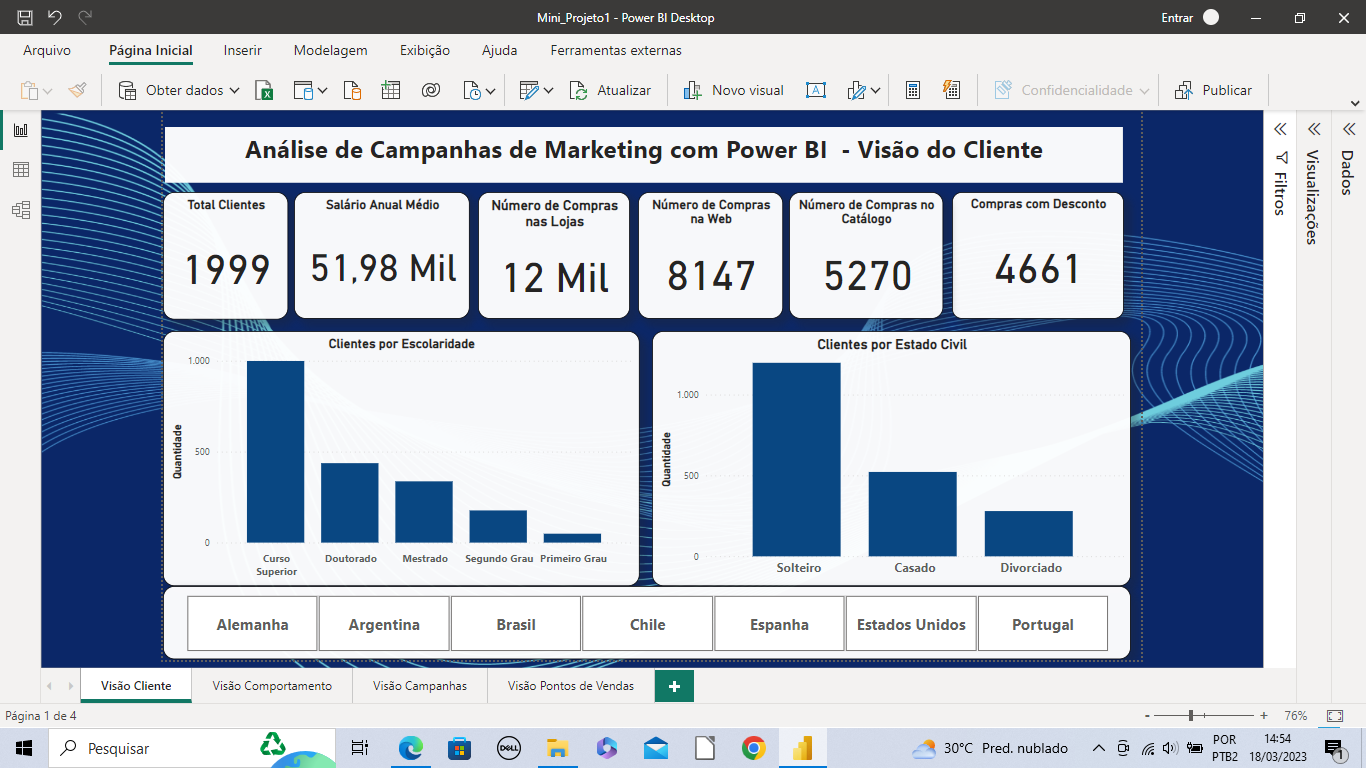

Layout of this report page (visuals, bound fields, positions):
{"tool":"powerbi","page":{"name":"Visão Cliente","canvas":[1280,720],"ordinal":0},"visuals":[{"type":"card","title":"Total Clientes","fields":{"Values":["CountNonNull(DadosMarketing.ID)"]},"box":[0,107.4,163.8,166.5],"z":0},{"type":"card","title":"Salário Anual Médio","fields":{"Values":["Avg(DadosMarketing.Salario Anual)"]},"box":[171.5,107.3,230.4,166.3],"z":1000},{"type":"card","title":"Número de Compras nas Lojas","fields":{"Values":["Sum(DadosMarketing.Numero de Compras na Loja)"]},"box":[412.4,107.3,199,166.3],"z":2000},{"type":"card","title":"Número de Compras na Web","fields":{"Values":["Sum(DadosMarketing.Numero de Compras na Web)"]},"box":[621.8,107.3,189.8,166.3],"z":3000},{"type":"card","title":"Compras com Desconto","fields":{"Values":["Sum(DadosMarketing.Numero de Compras com Desconto)"]},"box":[1032.9,107.3,225.2,166.3],"z":4000},{"type":"card","title":"Número de Compras no Catálogo","fields":{"Values":["Sum(DadosMarketing.Numero de Compras via Catalogo)"]},"box":[819.5,107.3,201.6,166.3],"z":5000},{"type":"textbox","box":[2.9,21.6,1254.2,73.4],"z":6000},{"type":"clusteredColumnChart","title":"Clientes por Escolaridade","fields":{"Y":["CountNonNull(DadosMarketing.ID)"],"Category":["DadosMarketing.Escolaridade"]},"box":[0,289.1,623.5,334.1],"z":7000},{"type":"clusteredColumnChart","title":"Clientes por Estado Civil","fields":{"Y":["CountNonNull(DadosMarketing.ID)"],"Category":["DadosMarketing.Estado Civil"]},"box":[640.1,289.3,627.1,333.8],"z":8000},{"type":"slicer","fields":{"Values":["DadosMarketing.Pais"]},"box":[0,623.5,1267.2,96.5],"z":9000}]}

Visuals, with their boxes on the page's 1280x720 design canvas (x1, y1, x2, y2). These are canvas units, not pixel positions in the 1366x768 screenshot, which may show the page scaled, cropped or inside an application window:
"Total Clientes" card: detection(0, 107, 164, 274)
"Salário Anual Médio" card: detection(172, 107, 402, 274)
"Número de Compras nas Lojas" card: detection(412, 107, 611, 274)
"Número de Compras na Web" card: detection(622, 107, 812, 274)
"Compras com Desconto" card: detection(1033, 107, 1258, 274)
"Número de Compras no Catálogo" card: detection(820, 107, 1021, 274)
textbox: detection(3, 22, 1257, 95)
"Clientes por Escolaridade" clusteredColumnChart: detection(0, 289, 624, 623)
"Clientes por Estado Civil" clusteredColumnChart: detection(640, 289, 1267, 623)
slicer - DadosMarketing.Pais: detection(0, 624, 1267, 720)
